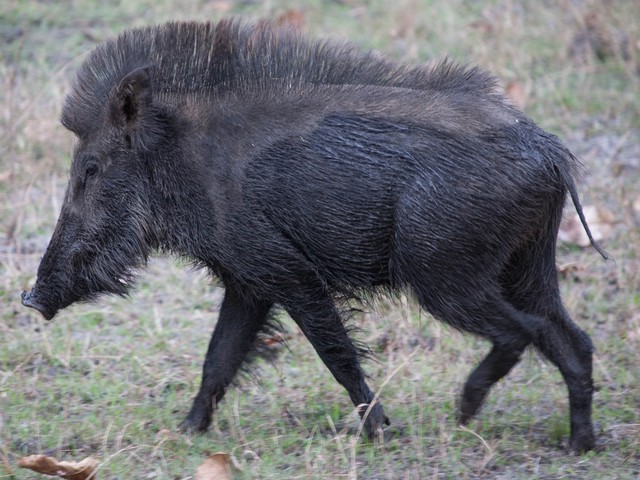Pig: (31, 14, 609, 447)
